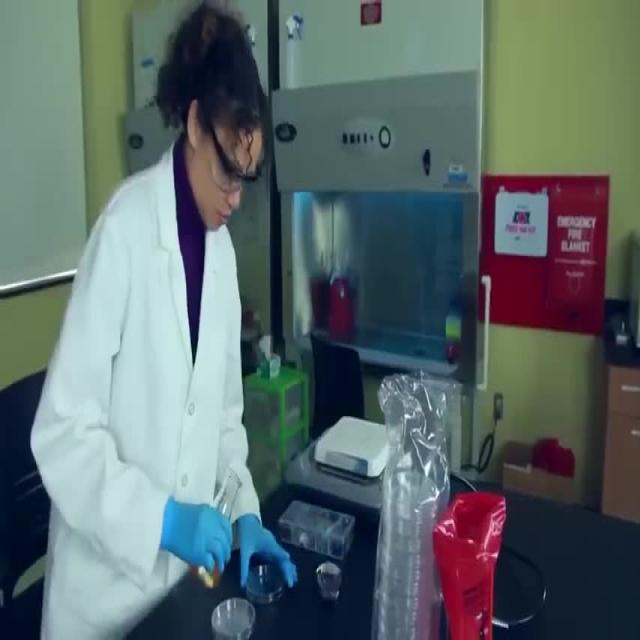googles: (210, 150, 262, 197)
labcoat: (30, 136, 264, 640)
